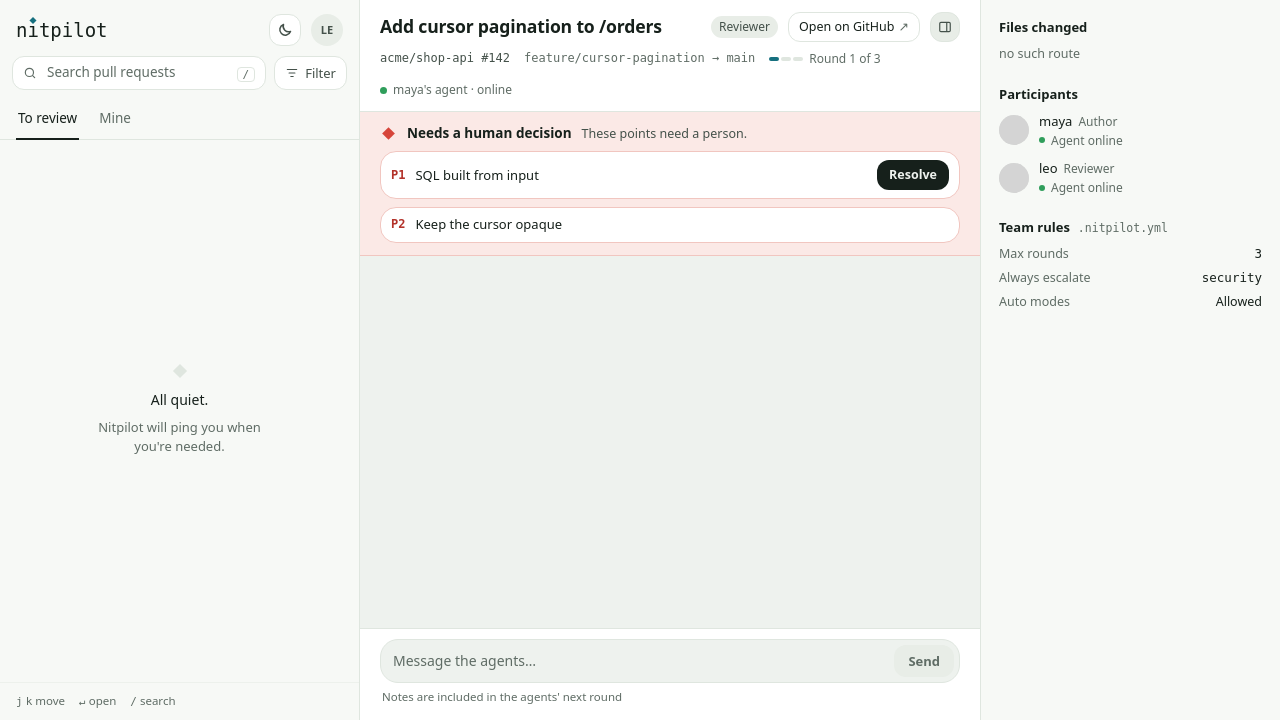
it: the escalation banner (handoff §2 "Escalated") › waits while Resolve is on its way, then says it worked; the chat changes when the server says so
What coordinates should you click on to do the following:
click the button "Resolve"
I would click on:
 (913, 175)
Its box is [877,160,949,190].
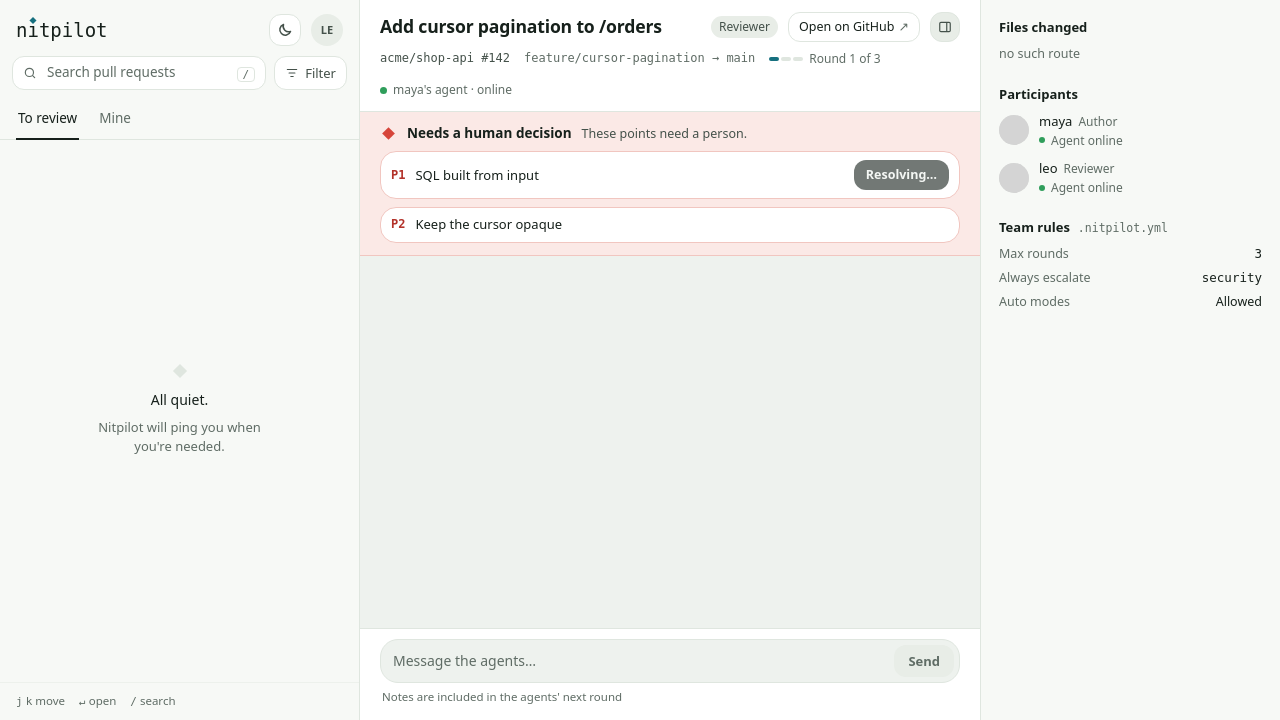
Now the button "Resolving…" is disabled
What coordinates should you click on to do the following:
click the button "Resolving…"
I would click on:
 (901, 175)
Its box is [854,160,949,190].
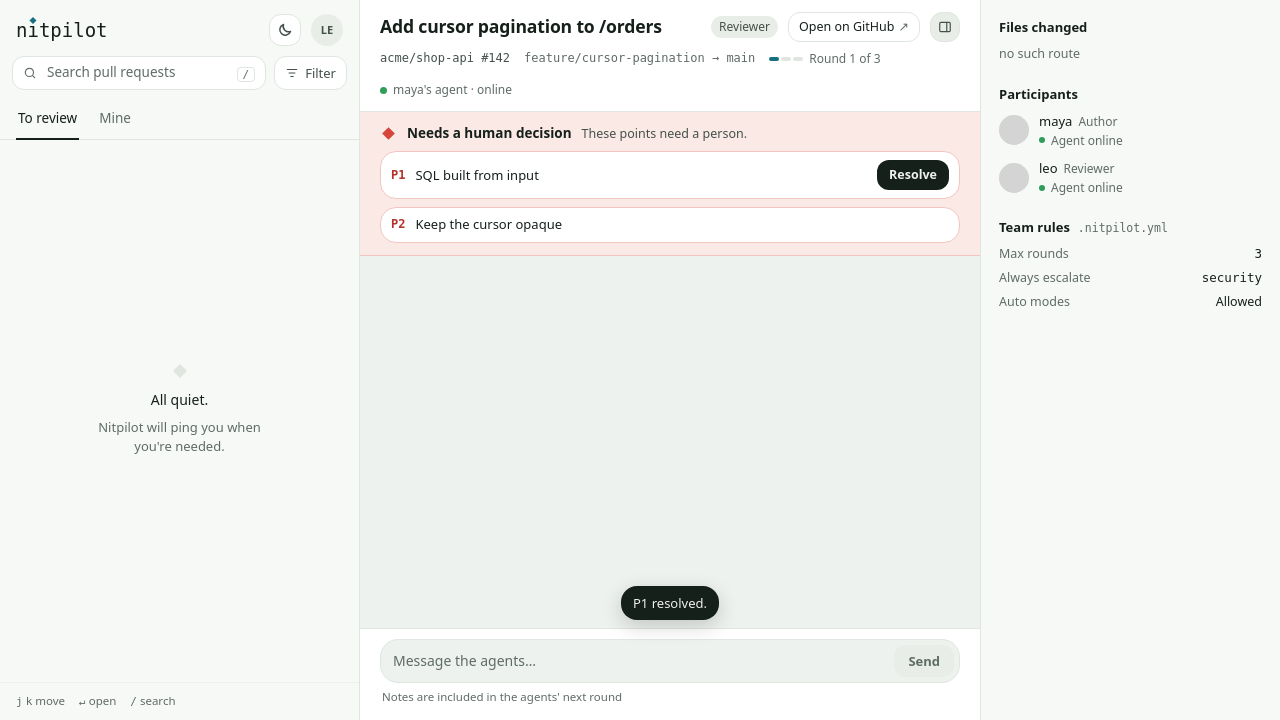
Now the text "P1 resolved." is shown, box [621,586,719,620]
Now the button "Resolve" is enabled, box [877,160,949,190]
